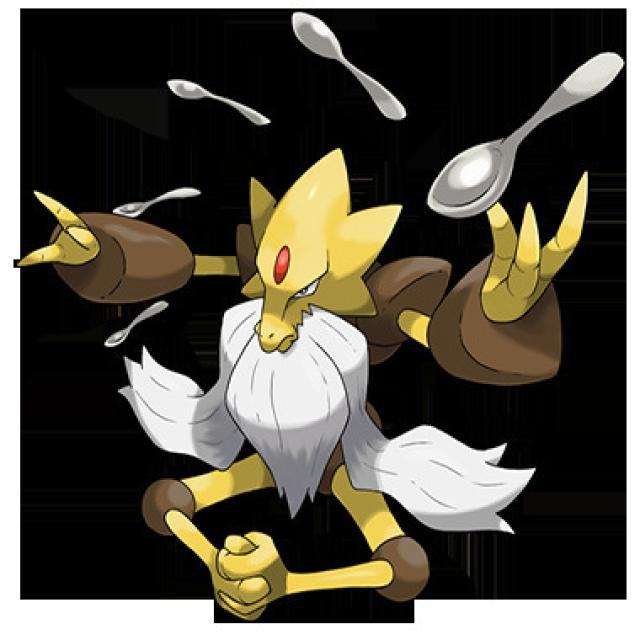Alakazam: (110, 140, 496, 606)
